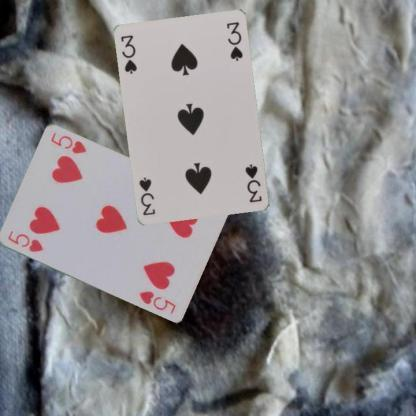3s: (118, 33, 139, 76), (242, 162, 263, 204)
5h: (4, 229, 44, 254)
